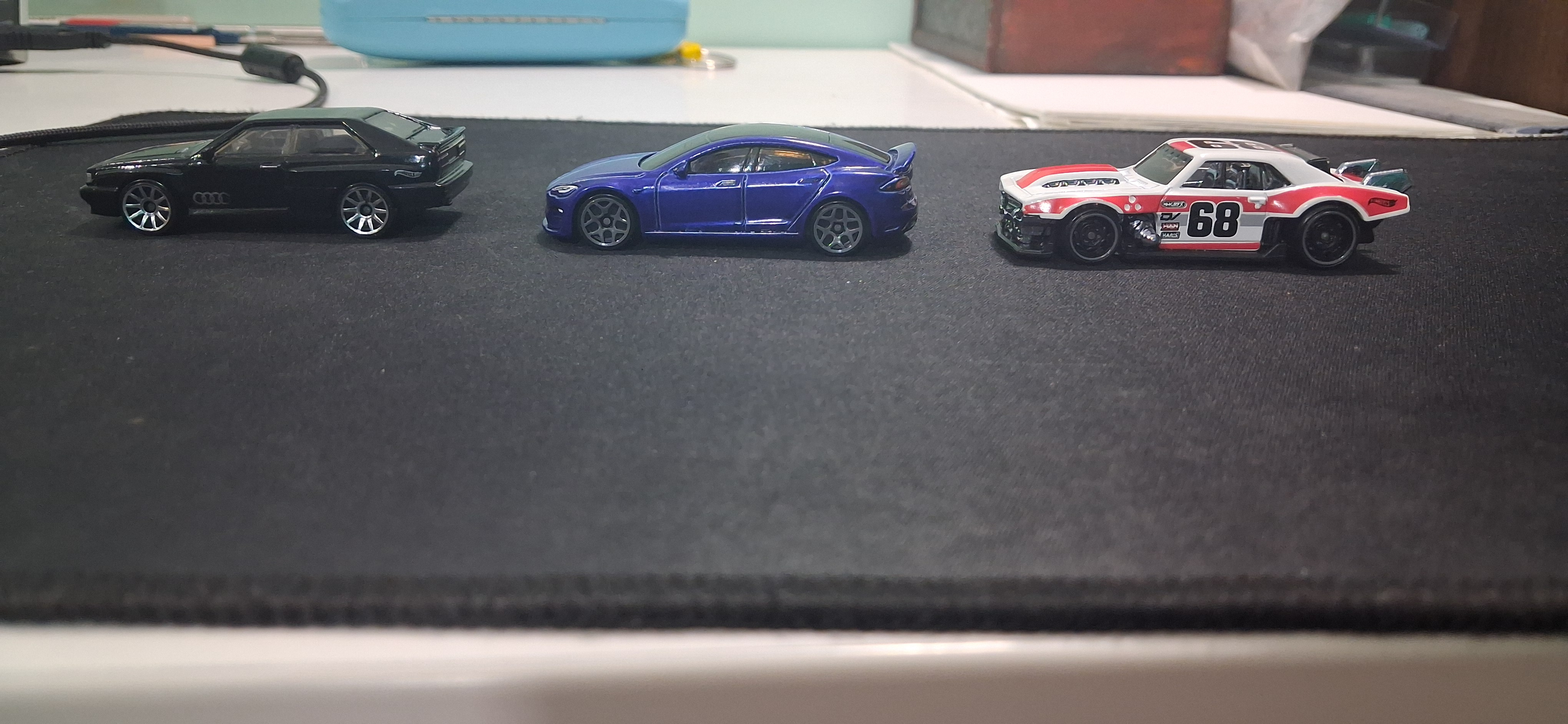Audi_Quattro: (66, 88, 488, 263)
Camaro: (978, 118, 1454, 285)
Tesla_Model_S_Plaid: (526, 114, 949, 276)
